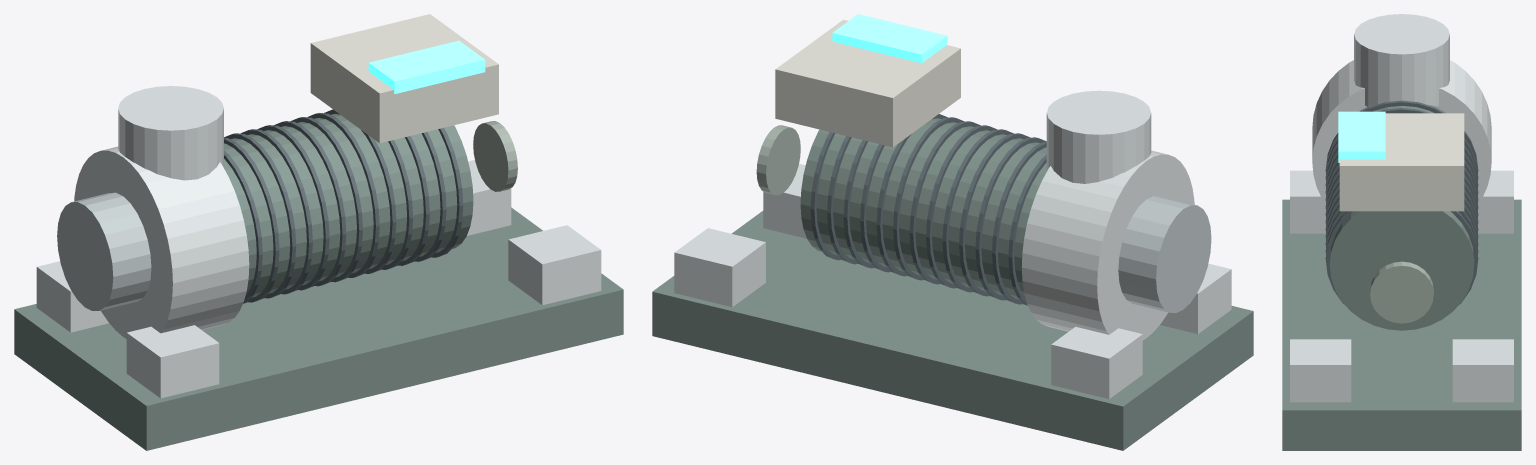
The model's file is s7-i02-pump-compact.glb.
The picture shows the model from 3 angles, left to right: view 1: azimuth 30°, elevation 25°; view 2: azimuth 150°, elevation 25°; view 3: azimuth 270°, elevation 25°; orthographic projection. The views are drawn at different scales.
Visible parts, largest first — view 1: 000_reinforced_industrial_base, 005_electric_motor, 019_water_pump_volute, 023_pump_terminal_box, 020_input_flange, 021_upper_output_flange, 004_mounting_foot, 002_mounting_foot, 024_power_status_led, 001_mounting_foot, 022_motor_end_cap, 003_mounting_foot (+13 smaller); view 2: 000_reinforced_industrial_base, 005_electric_motor, 019_water_pump_volute, 023_pump_terminal_box, 020_input_flange, 021_upper_output_flange, 003_mounting_foot, 001_mounting_foot, 024_power_status_led, 002_mounting_foot, 022_motor_end_cap, 004_mounting_foot (+13 smaller); view 3: 000_reinforced_industrial_base, 005_electric_motor, 023_pump_terminal_box, 021_upper_output_flange, 019_water_pump_volute, 003_mounting_foot, 004_mounting_foot, 022_motor_end_cap, 024_power_status_led, 001_mounting_foot, 002_mounting_foot, 018_cooling_fin_12 (+11 smaller).
Boxes of the visible parts, x1,y1,x2,y2 form: 000_reinforced_industrial_base: (14,207,623,450); 005_electric_motor: (224,114,473,297); 019_water_pump_volute: (74,146,249,338); 023_pump_terminal_box: (310,14,498,143); 020_input_flange: (57,192,151,310); 021_upper_output_flange: (118,86,223,180); 004_mounting_foot: (508,225,601,305); 002_mounting_foot: (126,325,219,398); 024_power_status_led: (368,40,485,93); 001_mounting_foot: (36,261,108,332); 022_motor_end_cap: (473,121,517,191); 003_mounting_foot: (467,160,511,235); 000_reinforced_industrial_base: (652,211,1253,450); 005_electric_motor: (800,118,1046,299); 019_water_pump_volute: (1021,150,1194,340); 023_pump_terminal_box: (775,19,960,147); 020_input_flange: (1118,196,1211,312); 021_upper_output_flange: (1046,90,1151,183); 003_mounting_foot: (674,228,765,307); 001_mounting_foot: (1051,326,1142,398); 024_power_status_led: (832,14,947,63); 002_mounting_foot: (1160,263,1231,333); 022_motor_end_cap: (756,125,800,195); 004_mounting_foot: (763,163,806,238); 000_reinforced_industrial_base: (1282,199,1521,450); 005_electric_motor: (1329,105,1474,330); 023_pump_terminal_box: (1339,113,1464,211); 021_upper_output_flange: (1354,14,1449,106); 019_water_pump_volute: (1312,60,1491,204); 003_mounting_foot: (1452,339,1513,402); 004_mounting_foot: (1290,339,1351,402); 022_motor_end_cap: (1370,261,1433,323); 024_power_status_led: (1338,111,1385,162); 001_mounting_foot: (1478,170,1513,233); 002_mounting_foot: (1290,170,1325,233); 018_cooling_fin_12: (1325,211,1478,304).
Bounding box in the file's own units: 0.73 × 0.407 × 0.3504.
